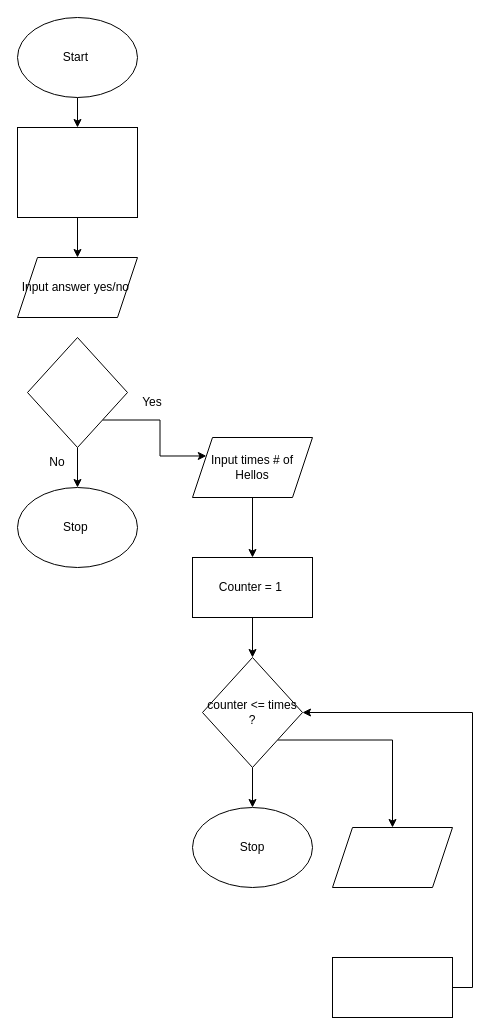
The diagram is 498 pixels wide and 1035 high, and some of its shapes have lost their labels. Each missing label, with the centre of its shape:
"answer = yes?" belongs at (77,392).
"counter = counter + 1" belongs at (392,987).
"Declaration string answer num times num counter" belongs at (77,172).
"Output Hello" belongs at (392,857).
